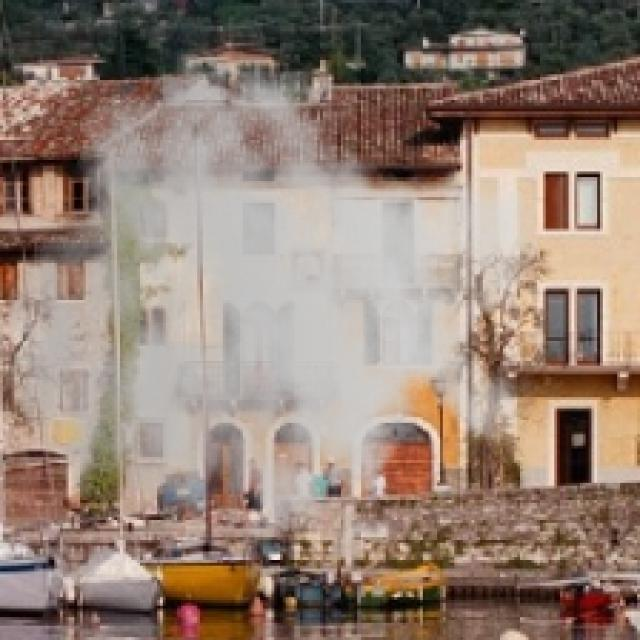smoke: (6, 34, 543, 592)
